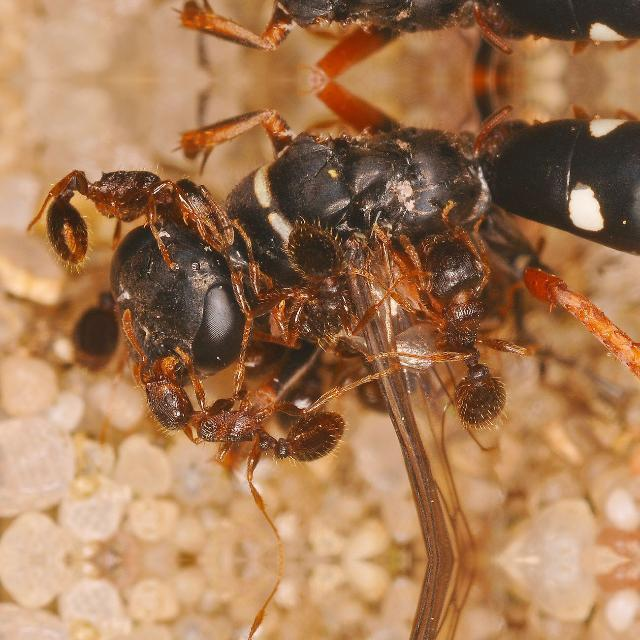Tetramorium: (378, 204, 540, 442), (106, 335, 360, 477), (29, 142, 242, 276), (240, 204, 386, 356)
